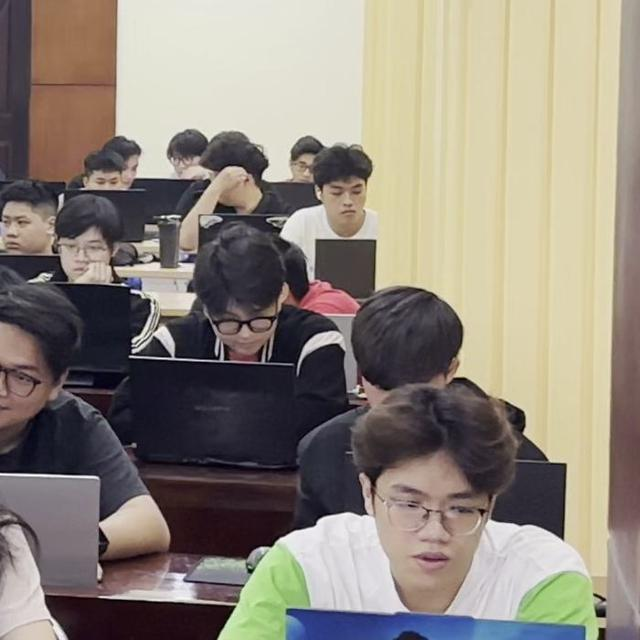Looking away: (344, 388, 493, 625), (348, 278, 468, 402), (197, 229, 282, 365), (6, 284, 53, 446), (58, 197, 119, 302), (187, 128, 257, 213), (318, 133, 371, 229), (4, 166, 51, 271), (100, 115, 150, 182), (158, 124, 200, 180), (87, 137, 128, 191), (287, 130, 323, 190)
